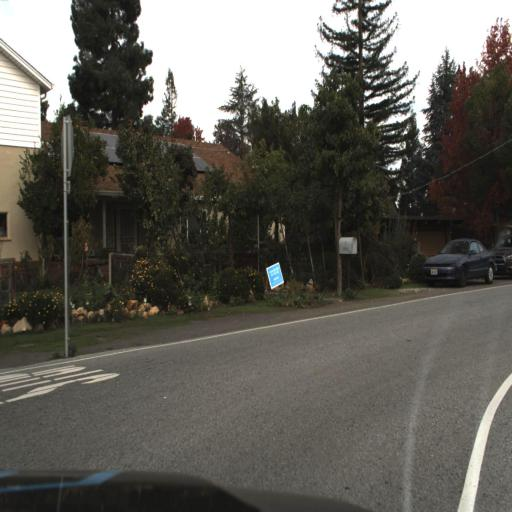car: (422, 238, 498, 290), (491, 223, 511, 288)
